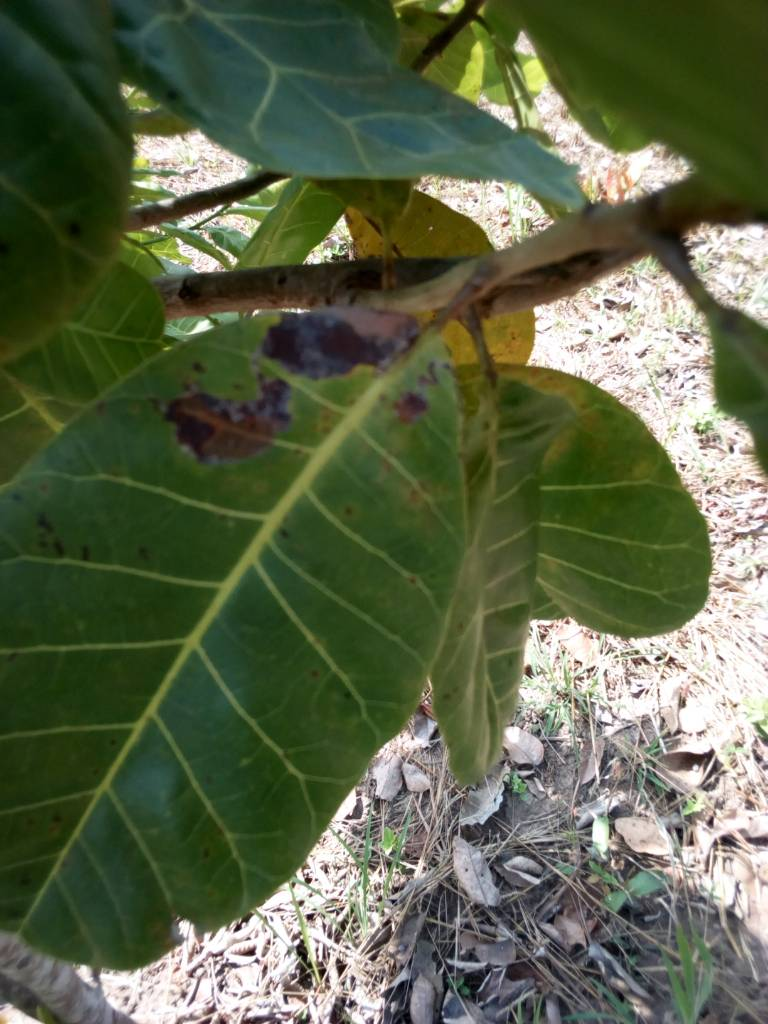Helopeltis anacardii: (1, 314, 469, 969)
